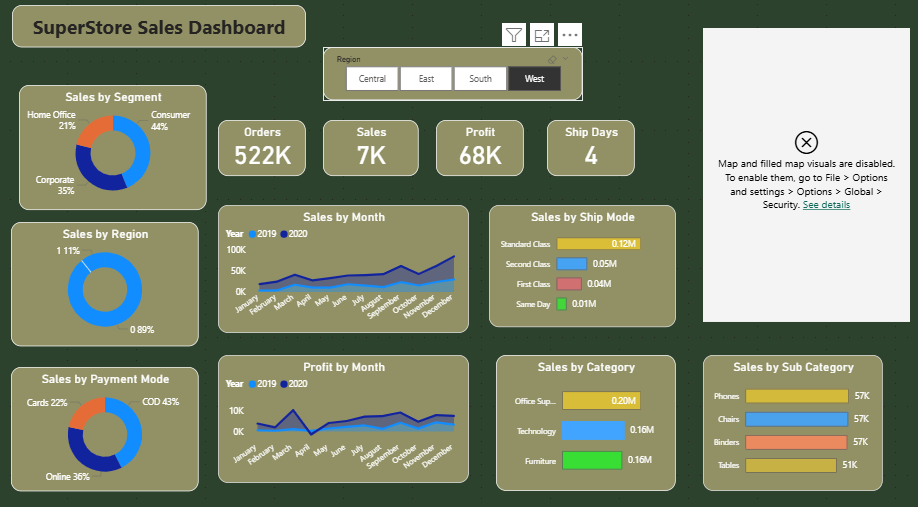

The dashboard page shown, as its layout file describes it:
{"tool":"powerbi","page":{"name":"Page 1","canvas":[1280,720],"ordinal":0},"visuals":[{"type":"clusteredBarChart","title":"Sales by Category","fields":{"Category":["Sheet1.Category"],"Y":["Sum(Sheet1.Sales)"]},"box":[692.9,505,250.4,189.2],"z":0},{"type":"clusteredBarChart","title":"Sales by Sub Category","fields":{"Category":["Sheet1.Sub-Category"],"Y":["Sum(Sheet1.Sales)"]},"box":[980.9,505,250.4,189.2],"z":1000},{"type":"clusteredBarChart","title":"Sales by Ship Mode","fields":{"Y":["Sum(Sheet1.Sales)"],"Category":["Sheet1.Ship Mode"]},"box":[683.3,296.7,260,170],"z":2000},{"type":"map","title":"Profit And Sales By State","fields":{"Category":["Sheet1.State"],"Size":["Sum(Sheet1.Sales)"]},"box":[961.4,43.1,288,410.4],"z":3000},{"type":"donutChart","title":" Sales by Segment","fields":{"Category":["Sheet1.Segment"],"Y":["Sum(Sheet1.Sales)"]},"box":[28.6,130,261.4,174.3],"z":4000},{"type":"donutChart","title":" Sales by Payment Mode","fields":{"Y":["Sum(Sheet1.Sales)"],"Category":["Sheet1.Payment Mode"]},"box":[18.6,521.4,261.4,172.9],"z":5000},{"type":"slicer","fields":{"Values":["Sheet1.Region"]},"box":[452.7,77,360.8,74.3],"z":6000},{"type":"textbox","box":[18.9,17.6,409.5,59.5],"z":7000},{"type":"card","title":"Orders","fields":{"Values":["Sum(Sheet1.Sales)"]},"box":[306.7,177.8,122.2,77.8],"z":8000},{"type":"card","title":"Sales","fields":{"Values":["Sum(Sheet1.Quantity)"]},"box":[452.2,177.8,133.3,77.8],"z":9000},{"type":"card","title":"Profit","fields":{"Values":["Sum(Sheet1.Profit)"]},"box":[610,177.8,122.2,77.8],"z":10000},{"type":"card","title":"Ship Days","fields":{"Values":["Avg(Sheet1.AvgDelivery)"]},"box":[763.3,177.8,122.2,77.8],"z":11000},{"type":"stackedAreaChart","title":"Sales by Month ","fields":{"Y":["Sum(Sheet1.Sales)"],"Category":["Sheet1.Order Date.Variation.Date Hierarchy.Month","Sheet1.Order Date.Variation.Date Hierarchy.Day"],"Series":["Sheet1.Order Date.Variation.Date Hierarchy.Year"]},"box":[306.1,296.3,349.2,178.1],"z":12000},{"type":"stackedAreaChart","title":"Profit by Month ","fields":{"Category":["Sheet1.Order Date.Variation.Date Hierarchy.Month","Sheet1.Order Date.Variation.Date Hierarchy.Day"],"Series":["Sheet1.Order Date.Variation.Date Hierarchy.Year"],"Y":["Sum(Sheet1.Profit)"]},"box":[306.1,505,349.2,178.1],"z":13000},{"type":"donutChart","title":" Sales by Region","fields":{"Category":["Sheet1.Region"],"Y":["Sum(Sheet1.Sales)"],"Series":["Sheet1.Returns"]},"box":[18.6,320,261.4,172.9],"z":14000}]}

Visuals, with their boxes in screenshot pixels (x1, y1, x2, y2), scaled from the page's 1280x720 canvas onto the 918x507 screenshot:
"Sales by Category" clusteredBarChart: {"left": 497, "top": 356, "right": 677, "bottom": 489}
"Sales by Sub Category" clusteredBarChart: {"left": 703, "top": 356, "right": 883, "bottom": 489}
"Sales by Ship Mode" clusteredBarChart: {"left": 490, "top": 209, "right": 677, "bottom": 329}
"Profit And Sales By State" map: {"left": 690, "top": 30, "right": 896, "bottom": 319}
" Sales by Segment" donutChart: {"left": 21, "top": 92, "right": 208, "bottom": 214}
" Sales by Payment Mode" donutChart: {"left": 13, "top": 367, "right": 201, "bottom": 489}
slicer - Sheet1.Region: {"left": 325, "top": 54, "right": 583, "bottom": 107}
textbox: {"left": 14, "top": 12, "right": 307, "bottom": 54}
"Orders" card: {"left": 220, "top": 125, "right": 308, "bottom": 180}
"Sales" card: {"left": 324, "top": 125, "right": 420, "bottom": 180}
"Profit" card: {"left": 437, "top": 125, "right": 525, "bottom": 180}
"Ship Days" card: {"left": 547, "top": 125, "right": 635, "bottom": 180}
"Sales by Month " stackedAreaChart: {"left": 220, "top": 209, "right": 470, "bottom": 334}
"Profit by Month " stackedAreaChart: {"left": 220, "top": 356, "right": 470, "bottom": 481}
" Sales by Region" donutChart: {"left": 13, "top": 225, "right": 201, "bottom": 347}
